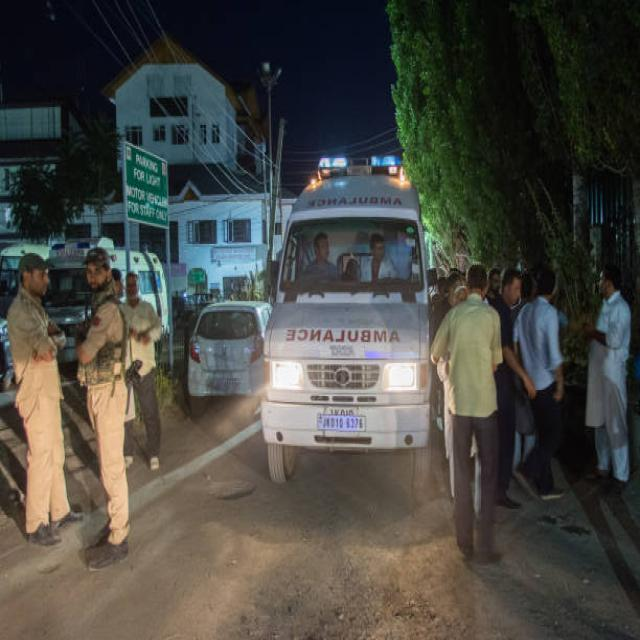ambulance: (265, 174, 436, 495)
